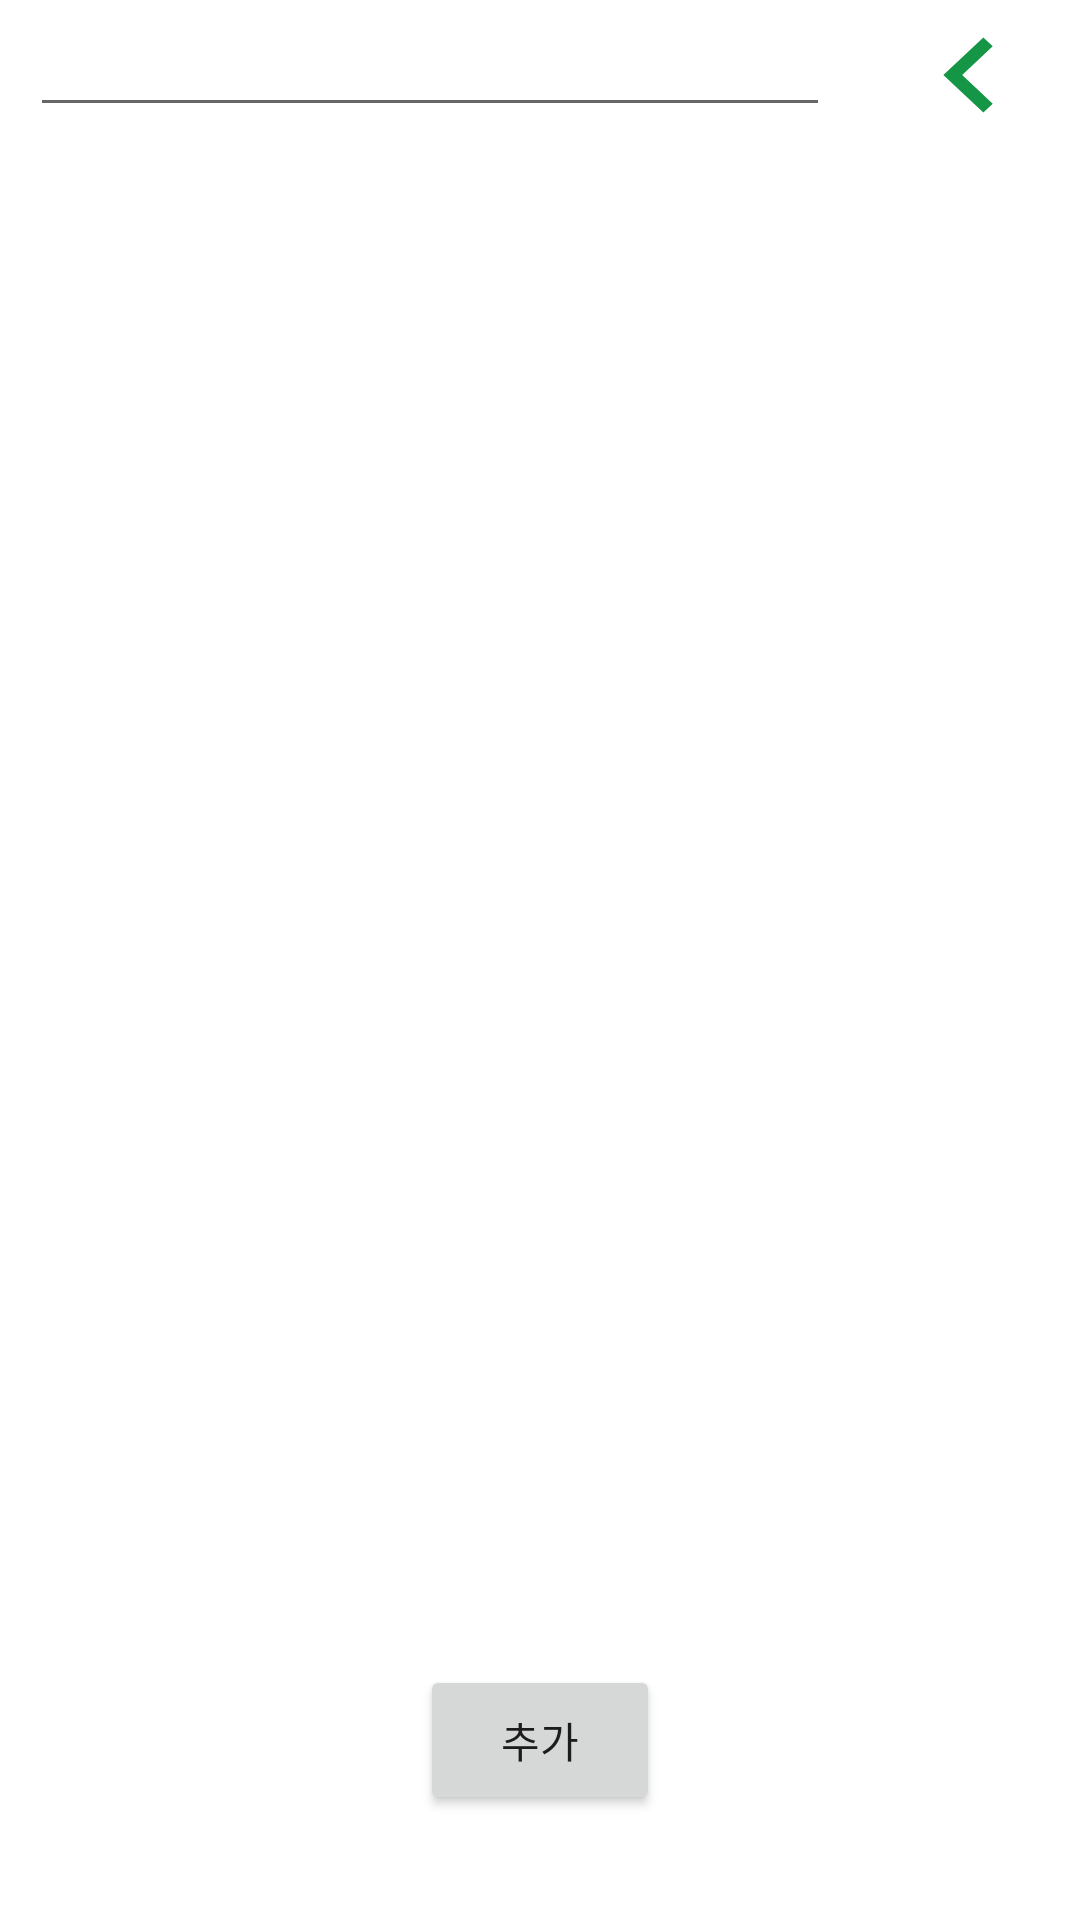

Where icons sit on this 1080w x 1920h app screen, as (x1, y1, x2, y2):
keyboard arrow left: (943, 37, 993, 113)
